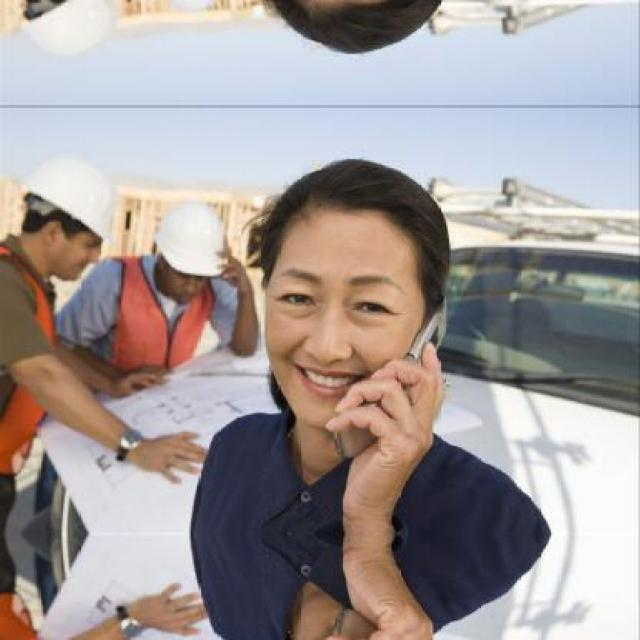Reflective-Jacket: (89, 256, 226, 398), (0, 245, 77, 480)
Safety-Helmet: (12, 148, 128, 248), (145, 194, 232, 284)
